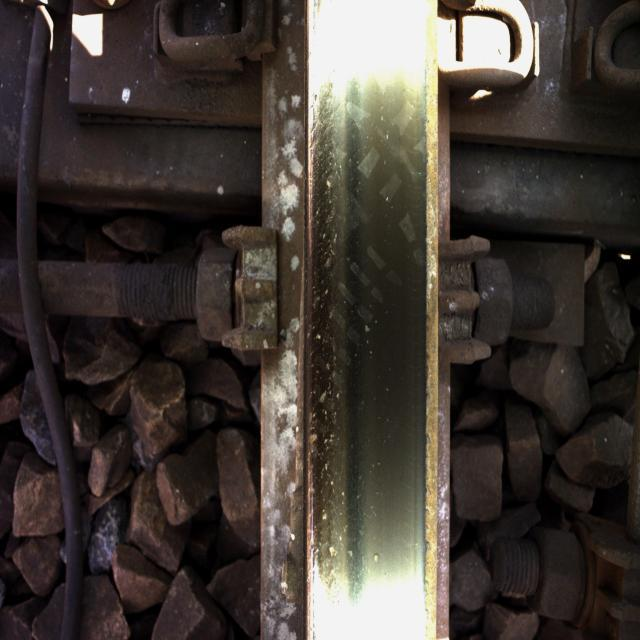scar: (310, 70, 366, 592)
